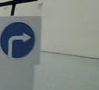right: (1, 22, 36, 59)
